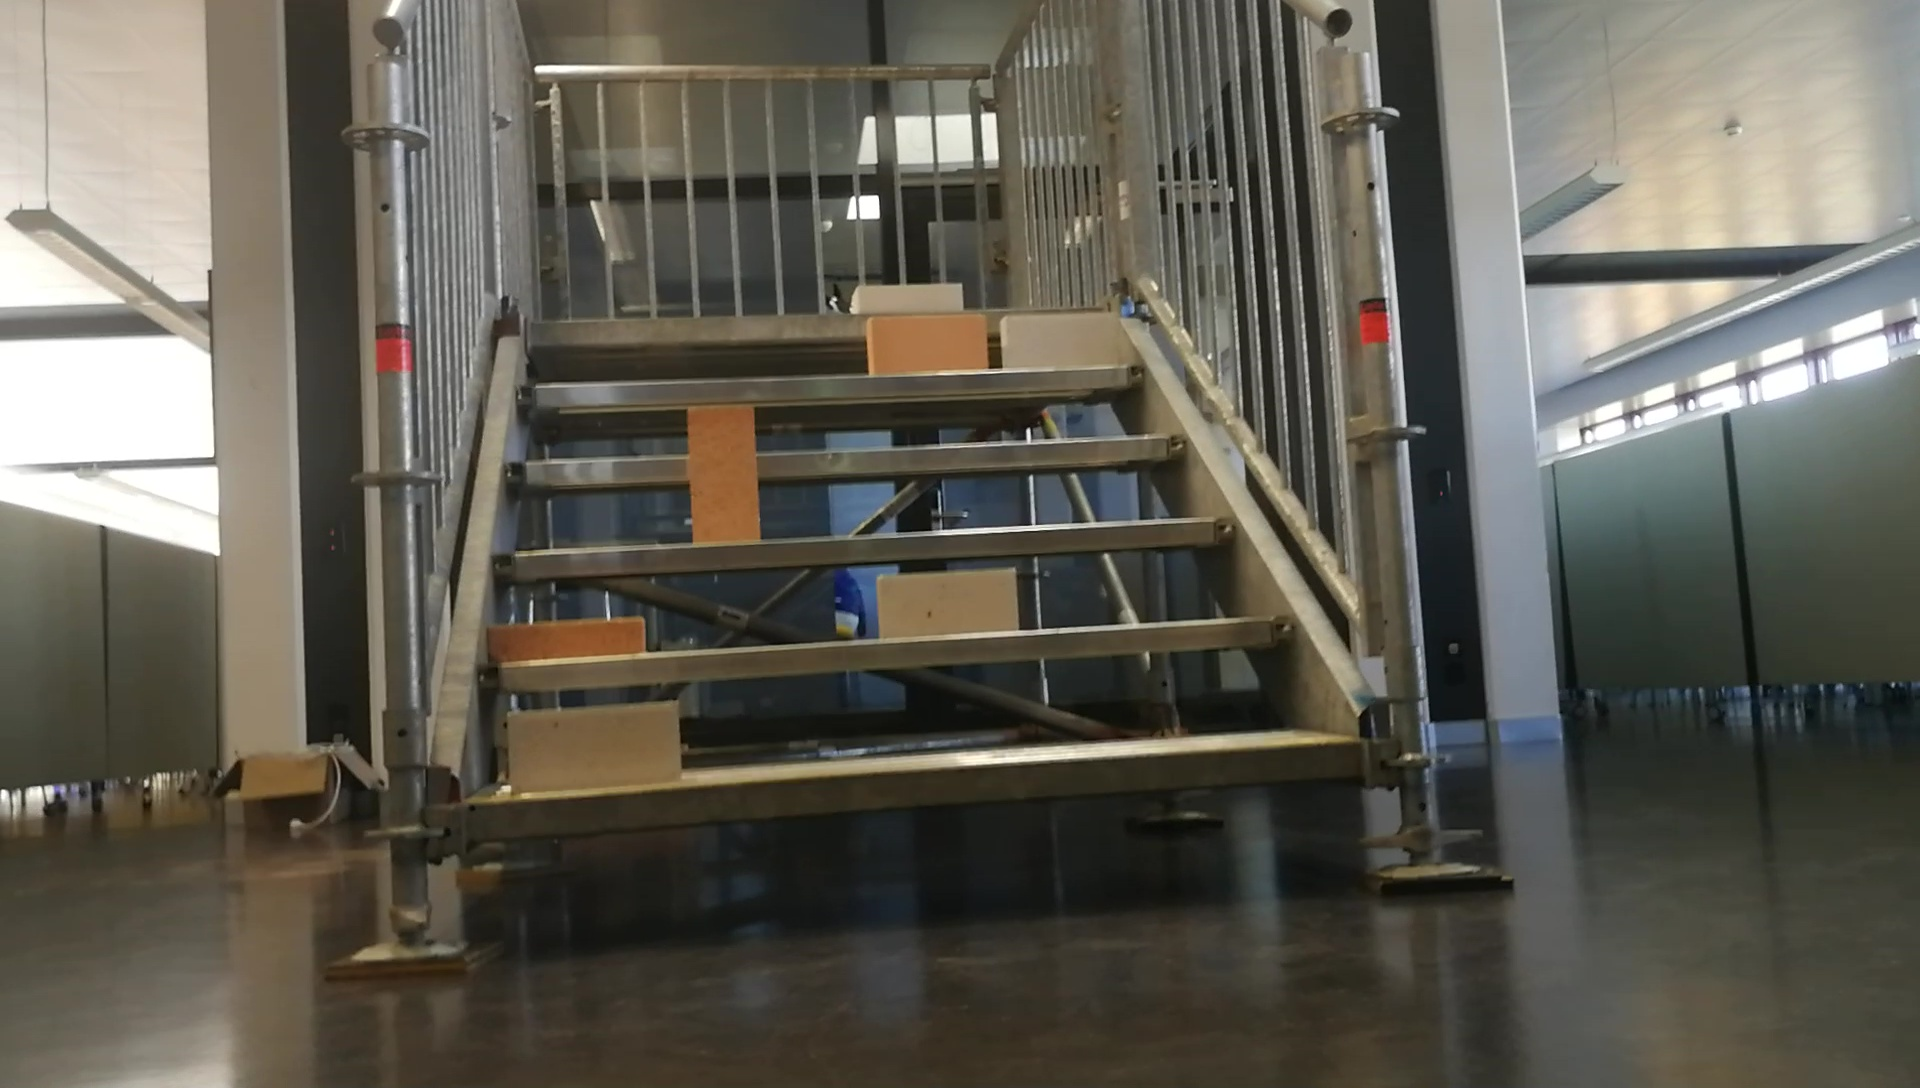brick: (505, 706, 680, 786), (882, 570, 1015, 640), (688, 408, 756, 542), (488, 616, 642, 661), (866, 315, 985, 369), (1004, 315, 1120, 365), (852, 282, 963, 313)
edge: (469, 737, 1348, 833), (469, 615, 1295, 687), (492, 516, 1241, 582), (502, 433, 1185, 481), (514, 361, 1147, 405), (527, 302, 1138, 342)
stairs: (318, 3, 1516, 976)
steps: (433, 270, 1371, 851)
